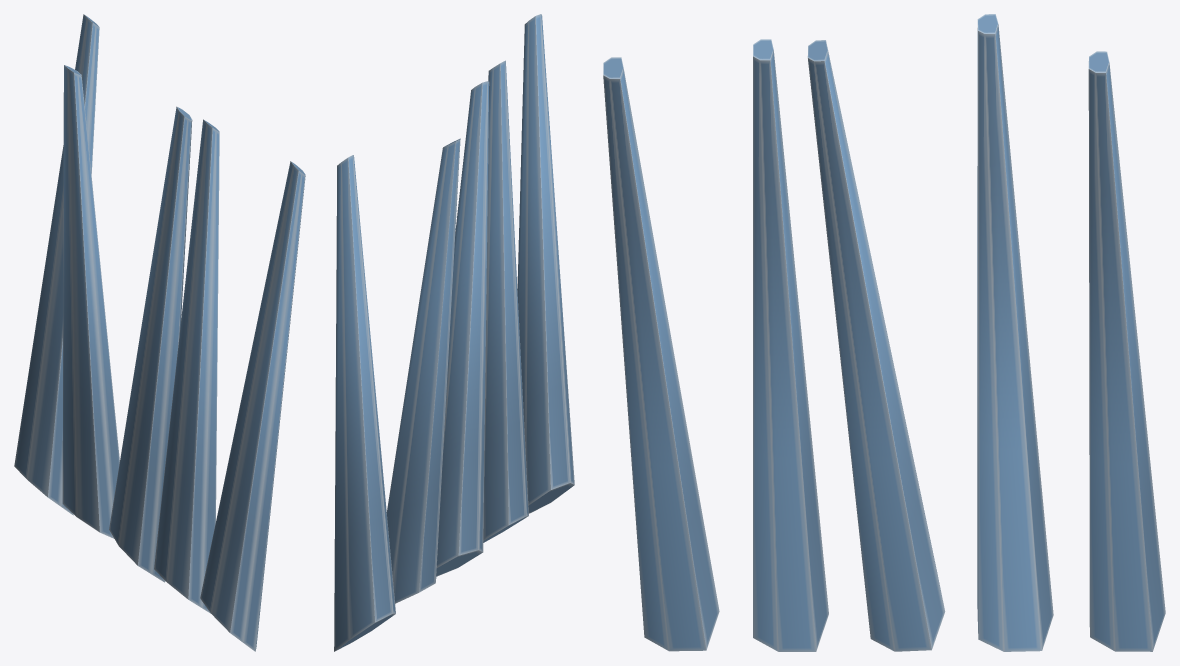
Rendered from wall_railing_03.fbx.
3 views of the same model, side by side, from view 1: azimuth 30°, elevation 25°; view 2: azimuth 150°, elevation 25°; view 3: azimuth 270°, elevation 25° (orthographic). The views are drawn at different scales.
Parts seen in each view (by area): view 1: wall_railing_03; view 2: wall_railing_03; view 3: wall_railing_03.
Boxes of the visible parts, x1=… form: wall_railing_03: x1=14, y1=14, x2=305, y2=651; wall_railing_03: x1=334, y1=14, x2=574, y2=651; wall_railing_03: x1=603, y1=14, x2=1165, y2=651.
Bounding box in the file's own units: 0.1877 × 1.07 × 0.898.
Materials: 1 (1 with a texture image).
